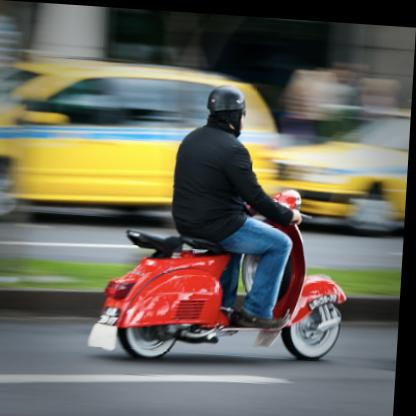With Helmet: (198, 77, 256, 140)
